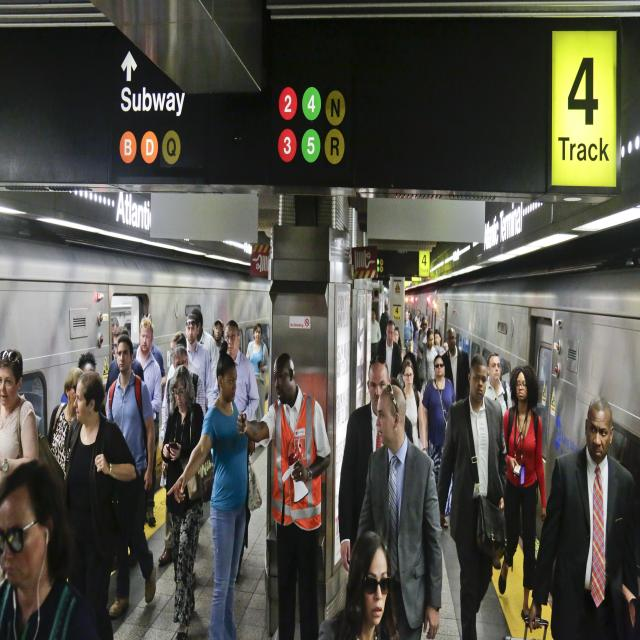body: (234, 348, 334, 640), (525, 392, 640, 640), (343, 380, 445, 640), (167, 340, 255, 640), (60, 363, 142, 640), (0, 452, 115, 640), (436, 352, 510, 640), (159, 363, 215, 640), (105, 334, 157, 616), (497, 362, 549, 628), (213, 319, 260, 579), (338, 354, 392, 574), (158, 346, 206, 564), (317, 529, 399, 640), (132, 312, 167, 528), (0, 347, 40, 486), (160, 330, 206, 447), (422, 354, 456, 486), (46, 366, 84, 475), (132, 316, 162, 416), (104, 325, 145, 398), (184, 312, 214, 410), (401, 358, 427, 456), (245, 322, 270, 422), (191, 307, 220, 385), (440, 328, 470, 403), (483, 350, 513, 423), (418, 328, 441, 398), (378, 320, 402, 378), (414, 315, 429, 388), (111, 315, 133, 363), (396, 352, 421, 392), (370, 307, 382, 366), (486, 370, 510, 394), (404, 311, 414, 354), (213, 320, 224, 358), (393, 326, 404, 363), (77, 352, 96, 373), (379, 303, 390, 338), (412, 319, 422, 356), (433, 329, 446, 356), (412, 309, 422, 329), (406, 305, 412, 322)
